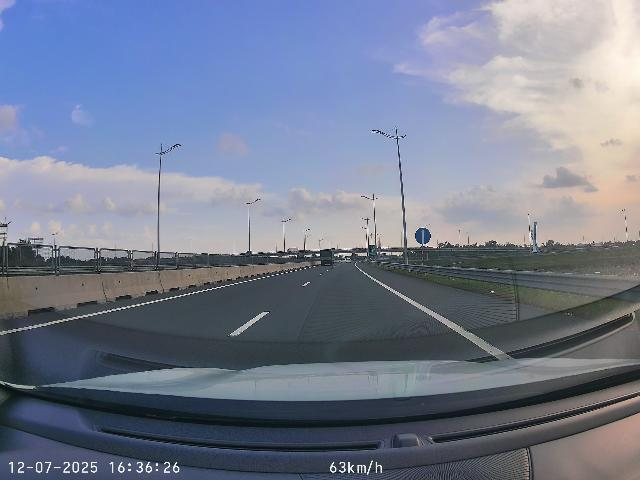301a-cac-xe-chi-duoc-di-thang: (415, 227, 431, 245)
